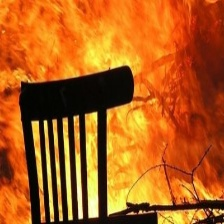fire: (1, 2, 224, 223)
